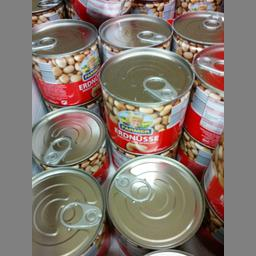nuts: (96, 46, 195, 153), (31, 18, 103, 106), (183, 44, 223, 146)
